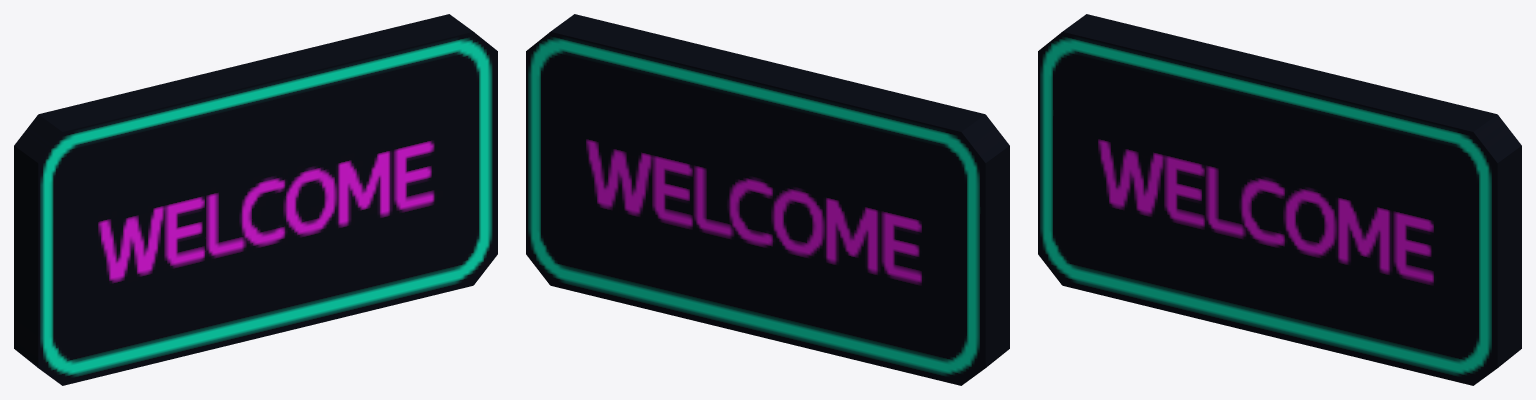
Rendered from fbx_neon_welcome.fbx.
3 renders of one model, left to right at view 1: azimuth 30°, elevation 25°; view 2: azimuth 150°, elevation 25°; view 3: azimuth 330°, elevation 25°, orthographic.
Visible parts, largest first — view 1: fbx_neon_welcome; view 2: fbx_neon_welcome; view 3: fbx_neon_welcome.
Boxes of the visible parts, <box> form: fbx_neon_welcome: <box>14,14,497,385</box>; fbx_neon_welcome: <box>526,14,1009,385</box>; fbx_neon_welcome: <box>1038,14,1521,385</box>.
Size of the model in its own units: 1.63 by 0.8628 by 0.1493.
Materials: 1 (1 with a texture image).
